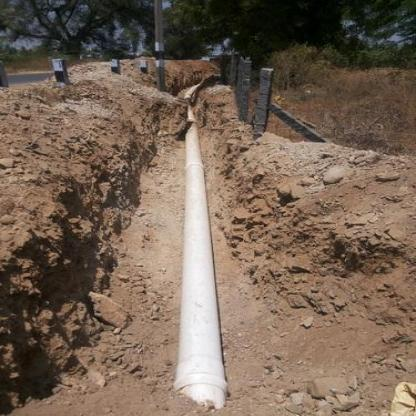PVC: (177, 86, 229, 408)
